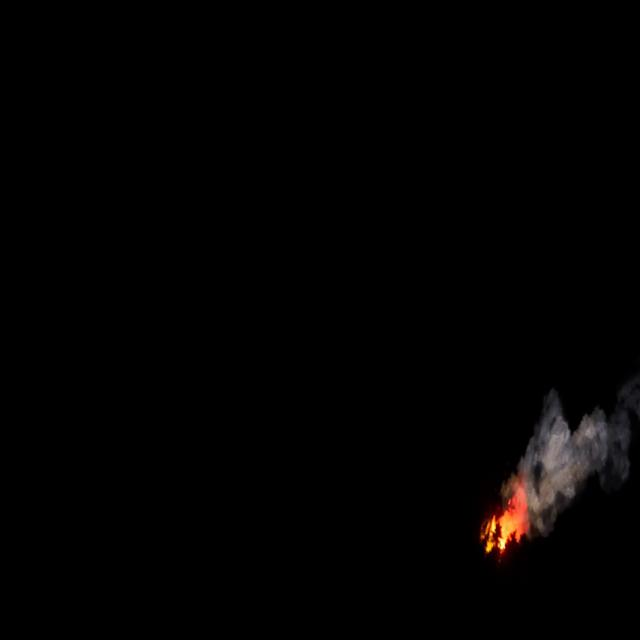fire: (482, 495, 526, 550)
smoke: (527, 374, 628, 532)
